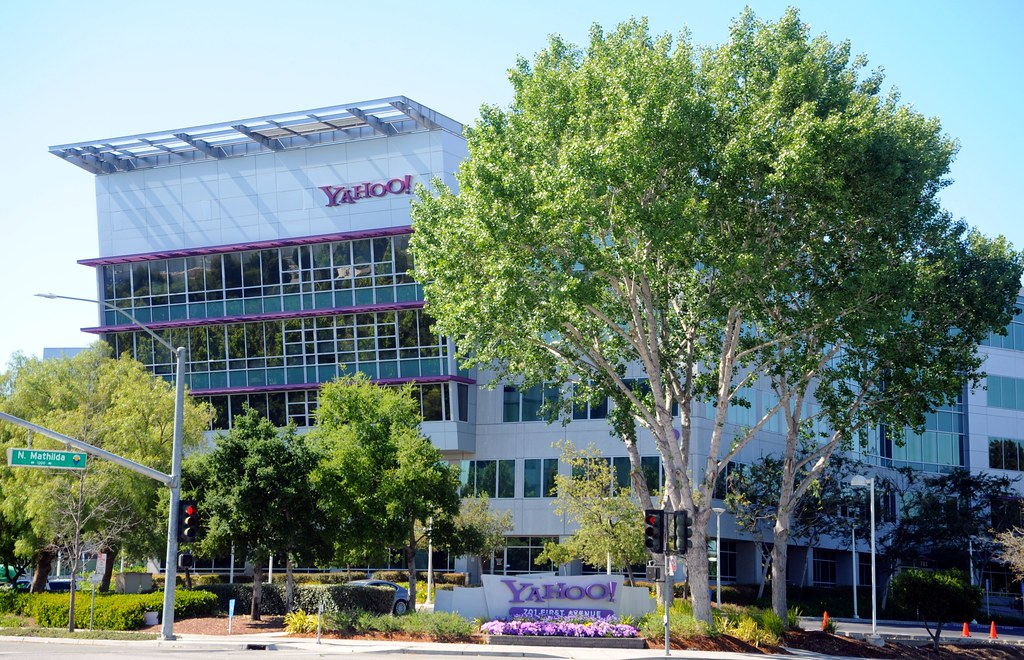tree: (404, 4, 1024, 633), (1, 338, 215, 595), (302, 372, 460, 573), (190, 400, 309, 603)
